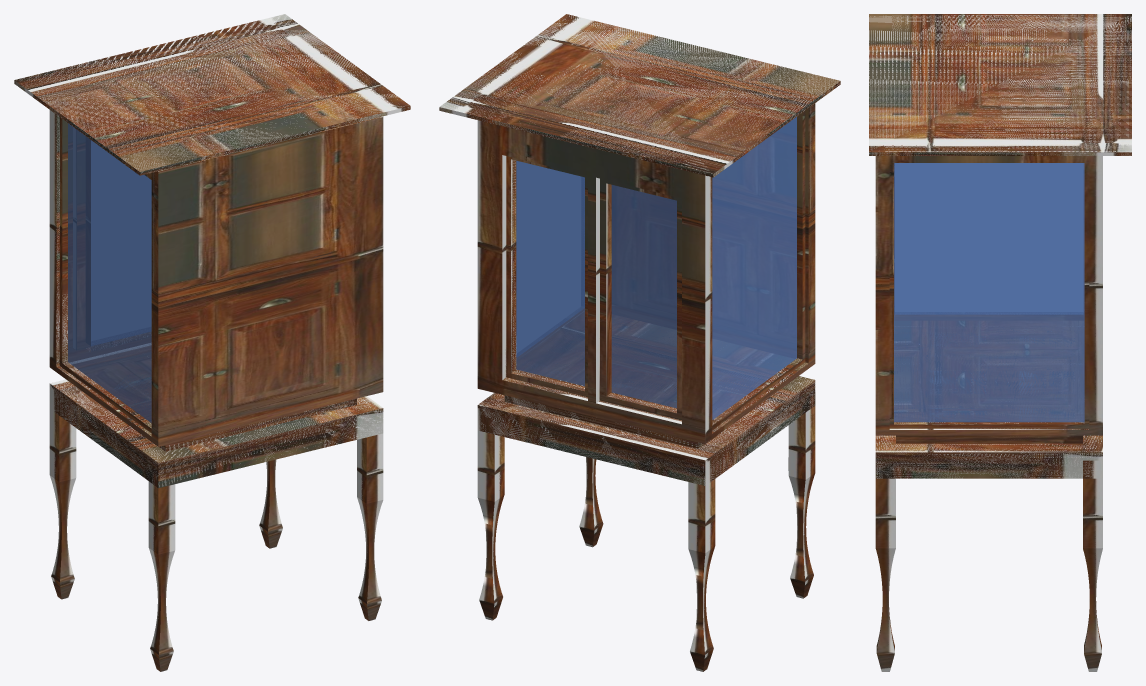
3 views of the same model, side by side, from view 1: azimuth 30°, elevation 25°; view 2: azimuth 150°, elevation 25°; view 3: azimuth 270°, elevation 25° (orthographic). The views are drawn at different scales.
Parts seen in each view (by area): view 1: mesh9_mesh9-geometry, mesh10_mesh10-geometry, mesh5_mesh5-geometry, mesh7_mesh7-geometry, mesh3_mesh3-geometry, mesh1_mesh1-geometry; view 2: mesh9_mesh9-geometry, mesh10_mesh10-geometry, mesh3_mesh3-geometry, mesh1_mesh1-geometry, mesh5_mesh5-geometry, mesh7_mesh7-geometry; view 3: mesh9_mesh9-geometry, mesh10_mesh10-geometry, mesh7_mesh7-geometry, mesh1_mesh1-geometry.
Boxes of the visible parts, left/top/right/bottom form: mesh9_mesh9-geometry: left=14, top=14, right=410, bottom=446; mesh10_mesh10-geometry: left=49, top=379, right=383, bottom=488; mesh5_mesh5-geometry: left=148, top=481, right=175, bottom=671; mesh7_mesh7-geometry: left=357, top=433, right=383, bottom=620; mesh3_mesh3-geometry: left=49, top=409, right=76, bottom=599; mesh1_mesh1-geometry: left=259, top=459, right=282, bottom=548; mesh9_mesh9-geometry: left=439, top=14, right=840, bottom=444; mesh10_mesh10-geometry: left=477, top=376, right=815, bottom=485; mesh3_mesh3-geometry: left=688, top=479, right=715, bottom=671; mesh1_mesh1-geometry: left=477, top=430, right=504, bottom=620; mesh5_mesh5-geometry: left=788, top=406, right=815, bottom=598; mesh7_mesh7-geometry: left=579, top=457, right=603, bottom=547; mesh9_mesh9-geometry: left=869, top=14, right=1131, bottom=435; mesh10_mesh10-geometry: left=875, top=435, right=1102, bottom=478; mesh7_mesh7-geometry: left=875, top=478, right=895, bottom=671; mesh1_mesh1-geometry: left=1083, top=478, right=1102, bottom=671.
Bounding box in the file's own units: 0.4521 × 0.8147 × 0.3632.
